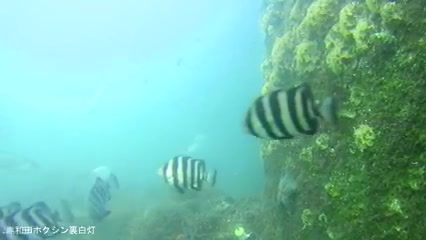ishidai: (243, 87, 330, 138), (156, 153, 226, 194)
